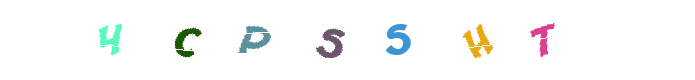4: (120, 0, 200, 80)
C: (145, 0, 225, 80)
H: (438, 0, 518, 80)
P: (283, 0, 363, 80)
S: (287, 0, 367, 80), (308, 0, 388, 80)
T: (502, 0, 582, 80)
